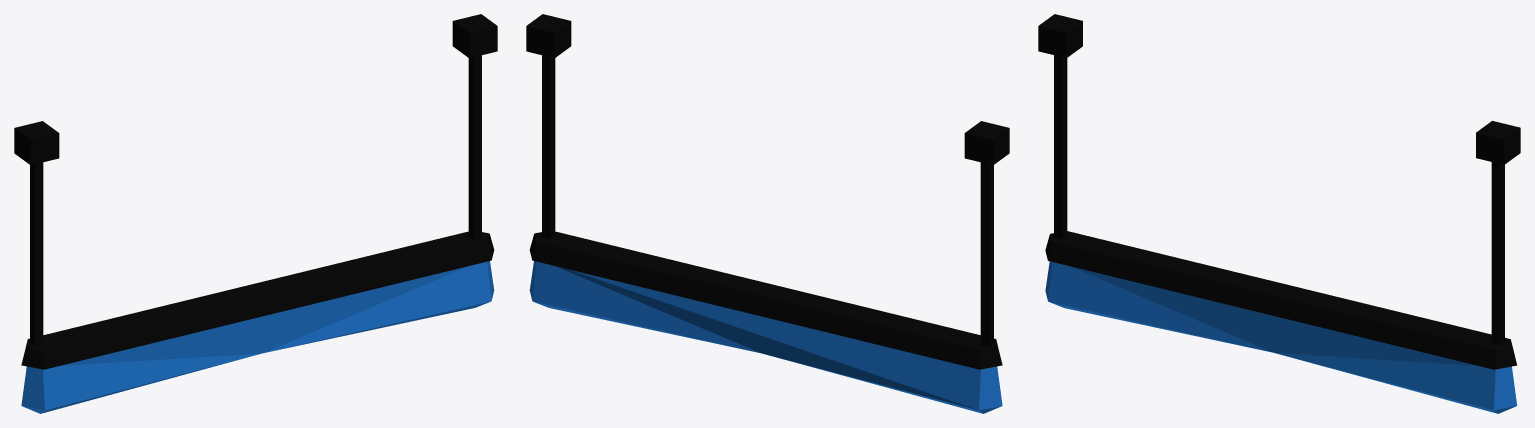
File: SM_lamp1.fbx
3 renders of one model, left to right at view 1: azimuth 30°, elevation 25°; view 2: azimuth 150°, elevation 25°; view 3: azimuth 330°, elevation 25°, orthographic.
Visible parts, largest first — view 1: lamp1; view 2: lamp1; view 3: lamp1.
Boxes of the visible parts, x1,y1,x2,y2 form: lamp1: [14, 14, 497, 413]; lamp1: [526, 14, 1009, 413]; lamp1: [1038, 14, 1520, 413].
Bounding box in the file's own units: 97.07 × 55.77 × 7.42.
